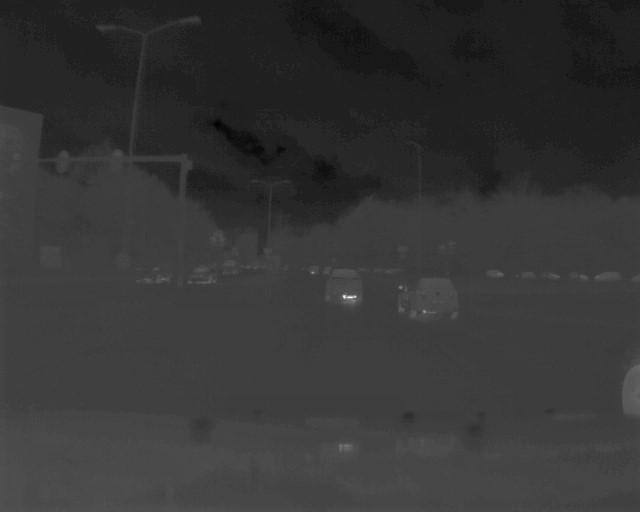car: (396, 275, 460, 322), (323, 265, 363, 307), (132, 261, 177, 284), (188, 263, 218, 287)
